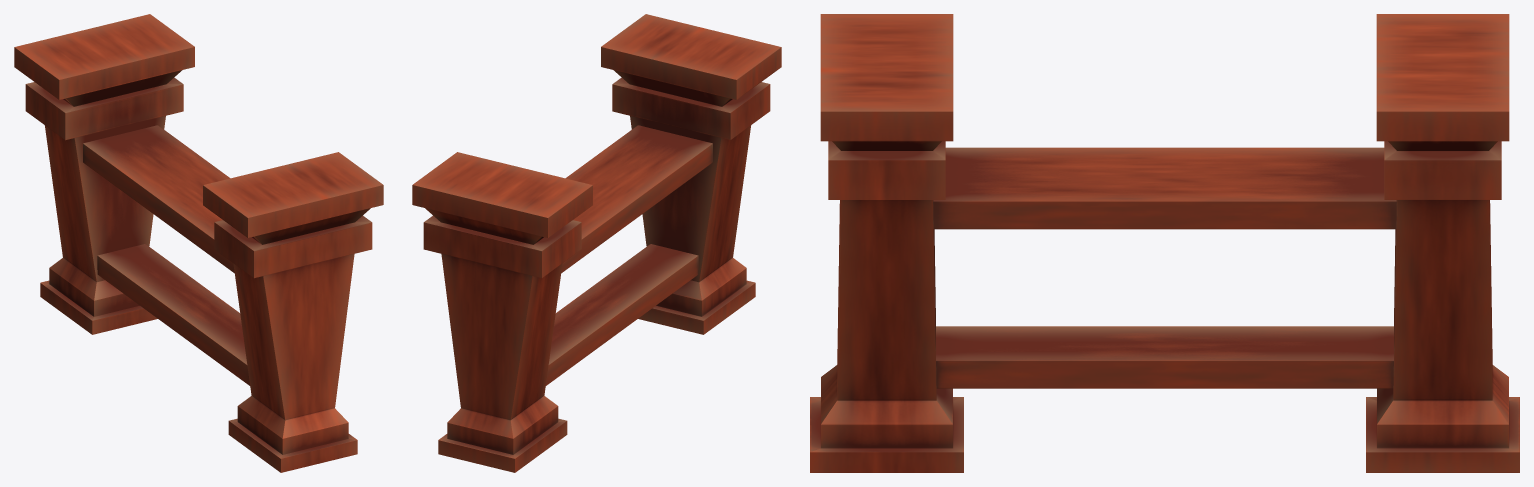
The model's file is shelf_1.fbx.
3 renders of one model, left to right at view 1: azimuth 30°, elevation 25°; view 2: azimuth 150°, elevation 25°; view 3: azimuth 270°, elevation 25°, orthographic. The views are drawn at different scales.
Parts seen in each view (by area): view 1: Cube.037; view 2: Cube.037; view 3: Cube.037.
Boxes of the visible parts, <box> form: Cube.037: <box>14,14,383,472</box>; Cube.037: <box>412,14,781,472</box>; Cube.037: <box>810,14,1519,472</box>.
Size of the model in its own units: 363 by 662 by 1114.
